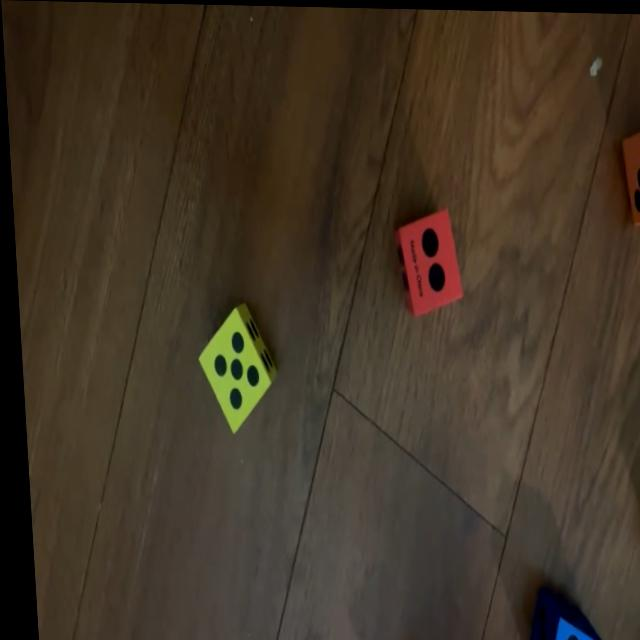cube: (393, 211, 460, 314), (525, 595, 595, 640)
